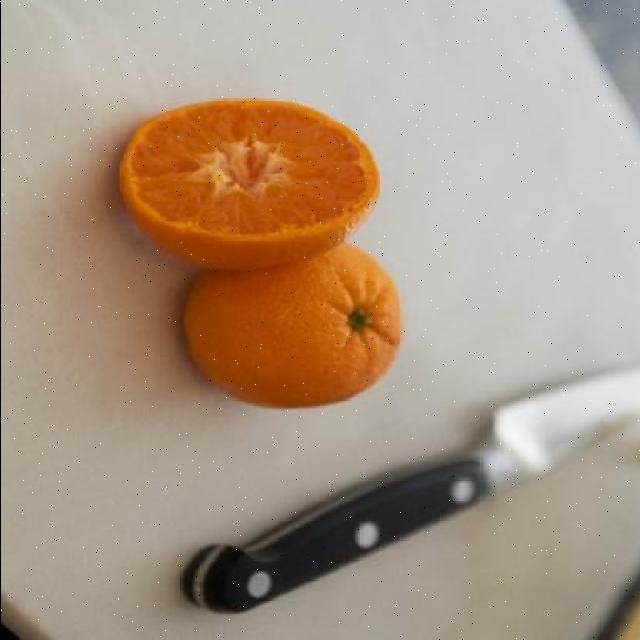Orange: (117, 95, 381, 271), (182, 242, 404, 409)
